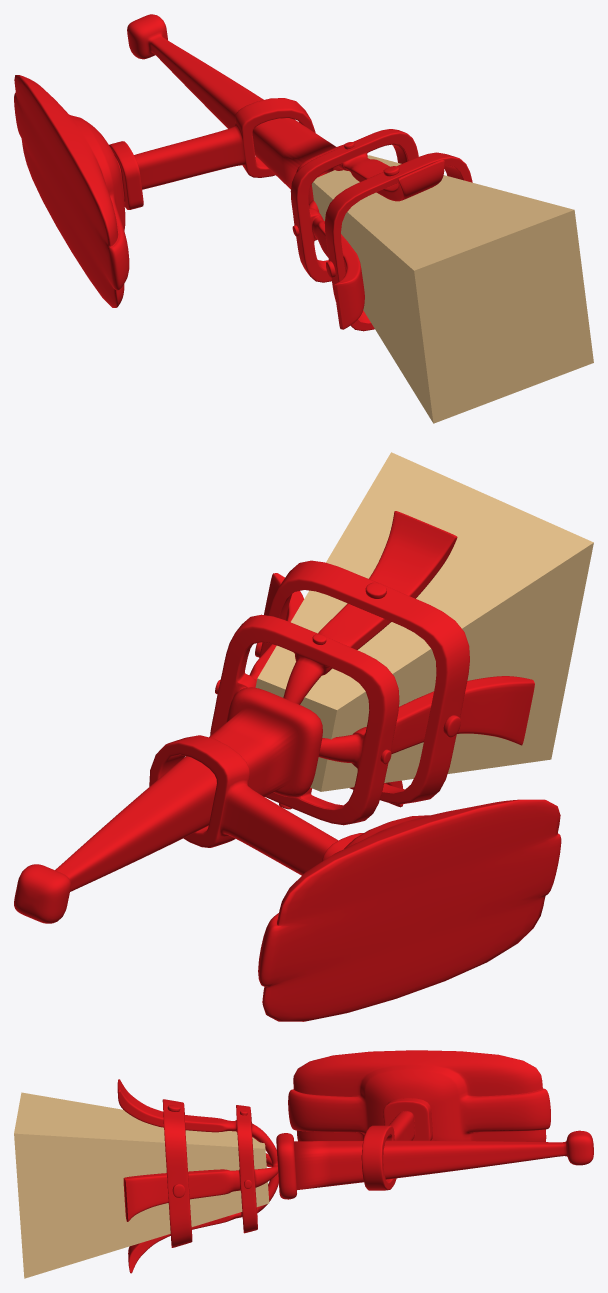
Rendered from mashal.fbx.
3 views of the same model, one above another, from view 1: azimuth 30°, elevation 25°; view 2: azimuth 150°, elevation 25°; view 3: azimuth 270°, elevation 25° (orthographic). The views are drawn at different scales.
Visible parts, largest first — view 1: fire, Wall-torch; view 2: Wall-torch, fire; view 3: Wall-torch, fire.
Part boxes in pixels (x1,y1,x2,y2): fire: (311, 155, 593, 423); Wall-torch: (14, 14, 472, 331); Wall-torch: (14, 511, 561, 1021); fire: (255, 452, 593, 791); Wall-torch: (117, 1050, 593, 1273); fire: (14, 1092, 269, 1278).
Size of the model in its own units: 96.78 by 60.7 by 182.
